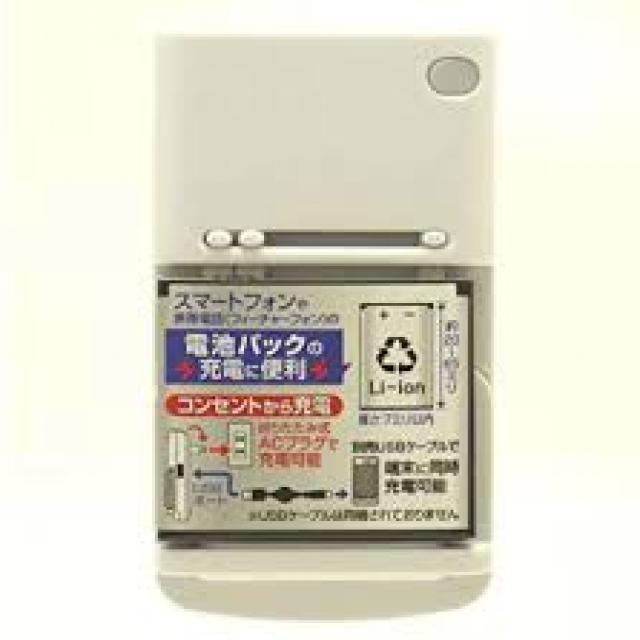non-organic waste: (153, 282, 477, 546)
